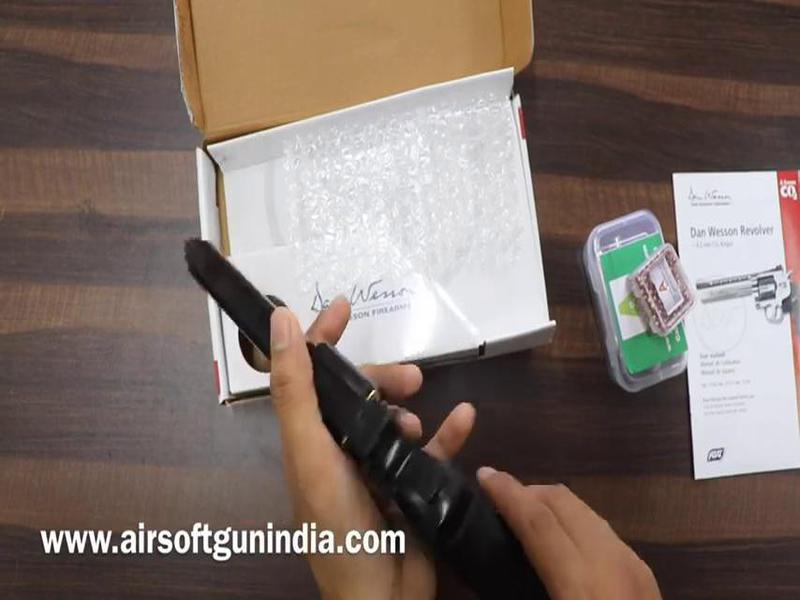Revolver: (154, 198, 571, 600)
